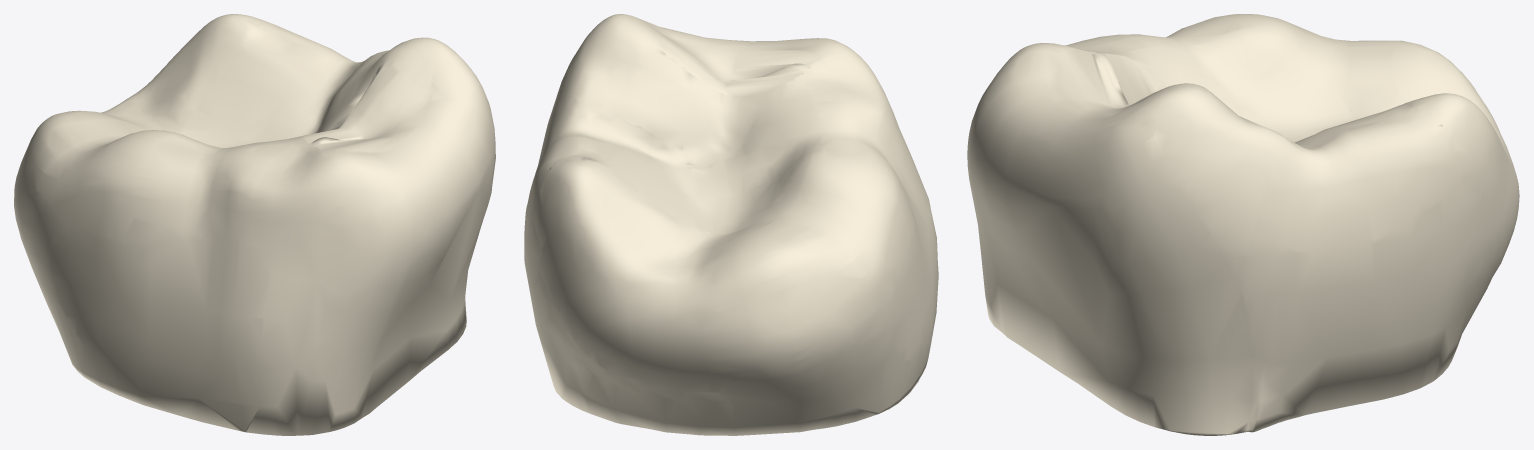
File: implant-molar.glb
The picture shows the model from 3 angles, left to right: view 1: azimuth 30°, elevation 25°; view 2: azimuth 150°, elevation 25°; view 3: azimuth 270°, elevation 25°; orthographic projection. The views are drawn at different scales.
Parts seen in each view (by area): view 1: implant-molar-crown-fdi46; view 2: implant-molar-crown-fdi46; view 3: implant-molar-crown-fdi46.
Part boxes in pixels (x1,y1,x2,y2): implant-molar-crown-fdi46: (14,14,495,435); implant-molar-crown-fdi46: (524,14,938,435); implant-molar-crown-fdi46: (967,14,1519,435).
Size of the model in its own units: 0.0105 by 0.0076 by 0.0118.
